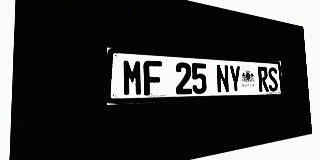2: (175, 62, 192, 94)
5: (191, 63, 207, 94)
F: (143, 60, 162, 95)
M: (122, 59, 143, 96)
N: (216, 64, 230, 93)
R: (258, 66, 269, 92)
S: (268, 67, 278, 91)
Y: (229, 65, 242, 93)
